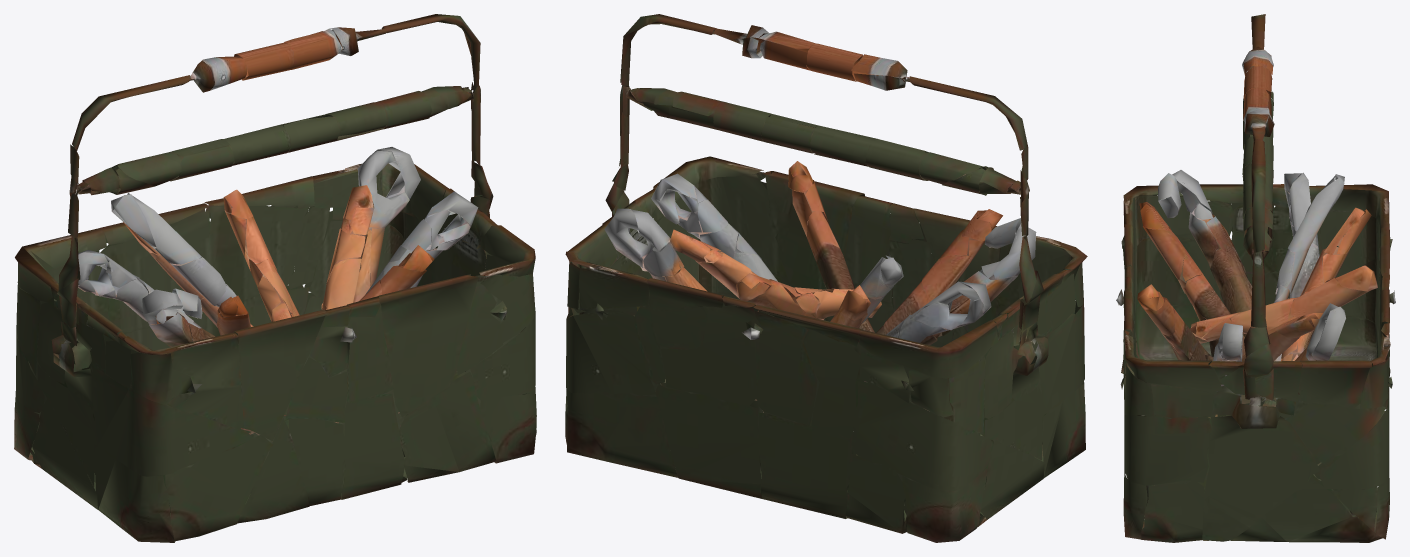
File: OldWorkerToolbox_Optimized.glb
3 renders of one model, left to right at view 1: azimuth 30°, elevation 25°; view 2: azimuth 150°, elevation 25°; view 3: azimuth 270°, elevation 25°, orthographic. The views are drawn at different scales.
Parts seen in each view (by area): view 1: Mesh_0; view 2: Mesh_0; view 3: Mesh_0.
Boxes of the visible parts, x1,y1,x2,y2 form: Mesh_0: (14,14,536,542); Mesh_0: (565,14,1087,542); Mesh_0: (1116,14,1395,542).
Bounding box in the file's own units: 1.89 × 1.7 × 1.15.
1 material, 1 textured.
